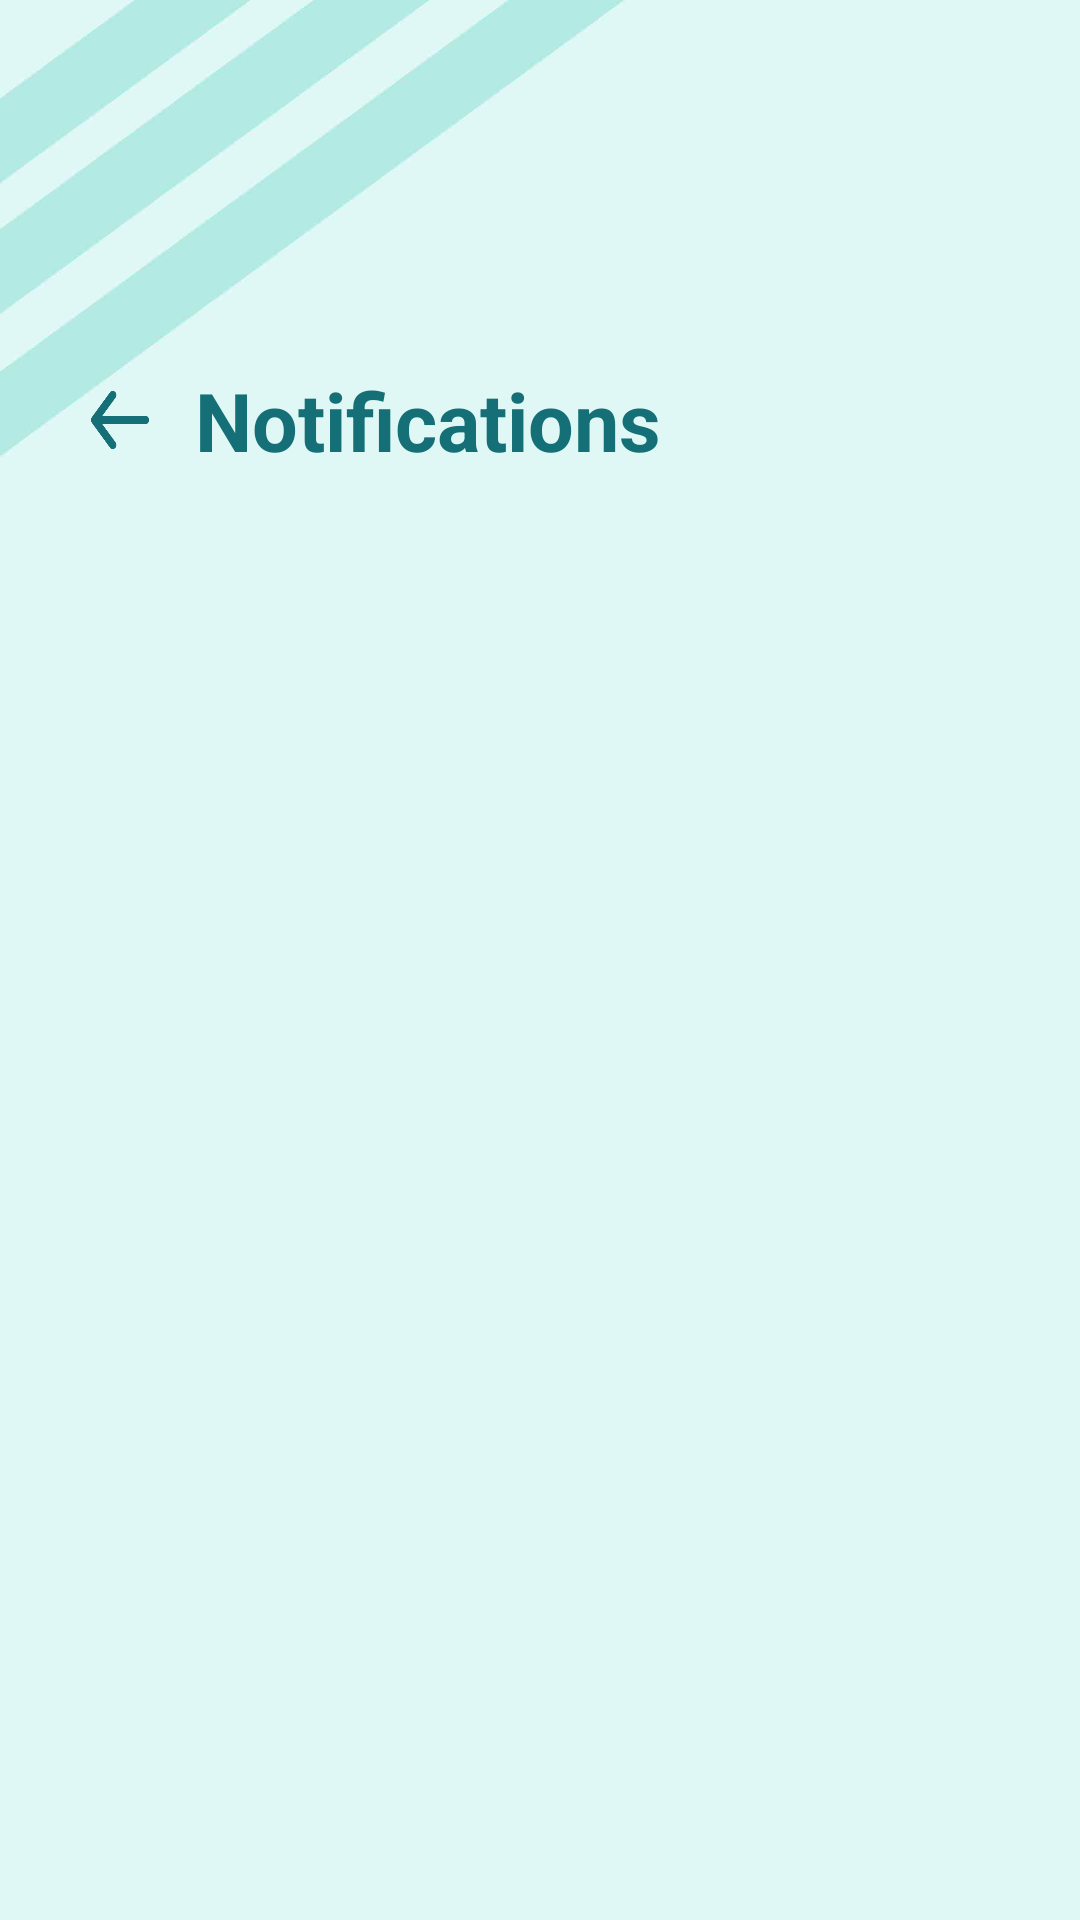

Named icons in this screenshot (1080w x 1920h) and their centers, (x=x, y=y):
back arrow: (x=120, y=420)
